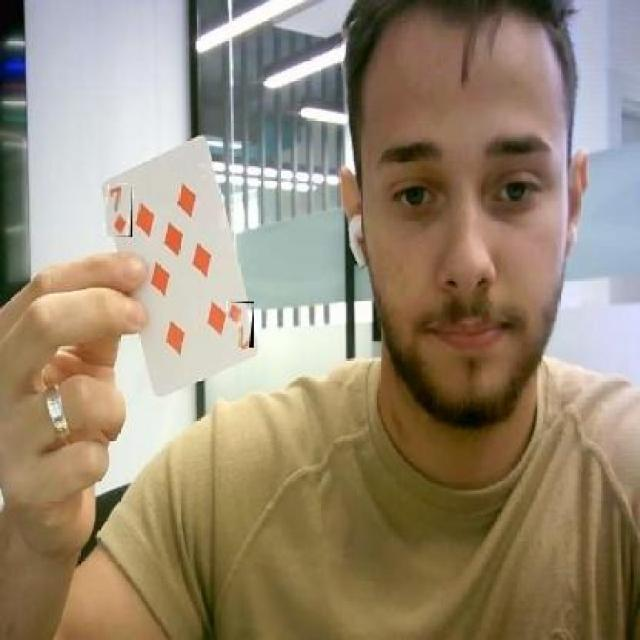7D: (105, 183, 133, 237), (228, 302, 254, 348)
